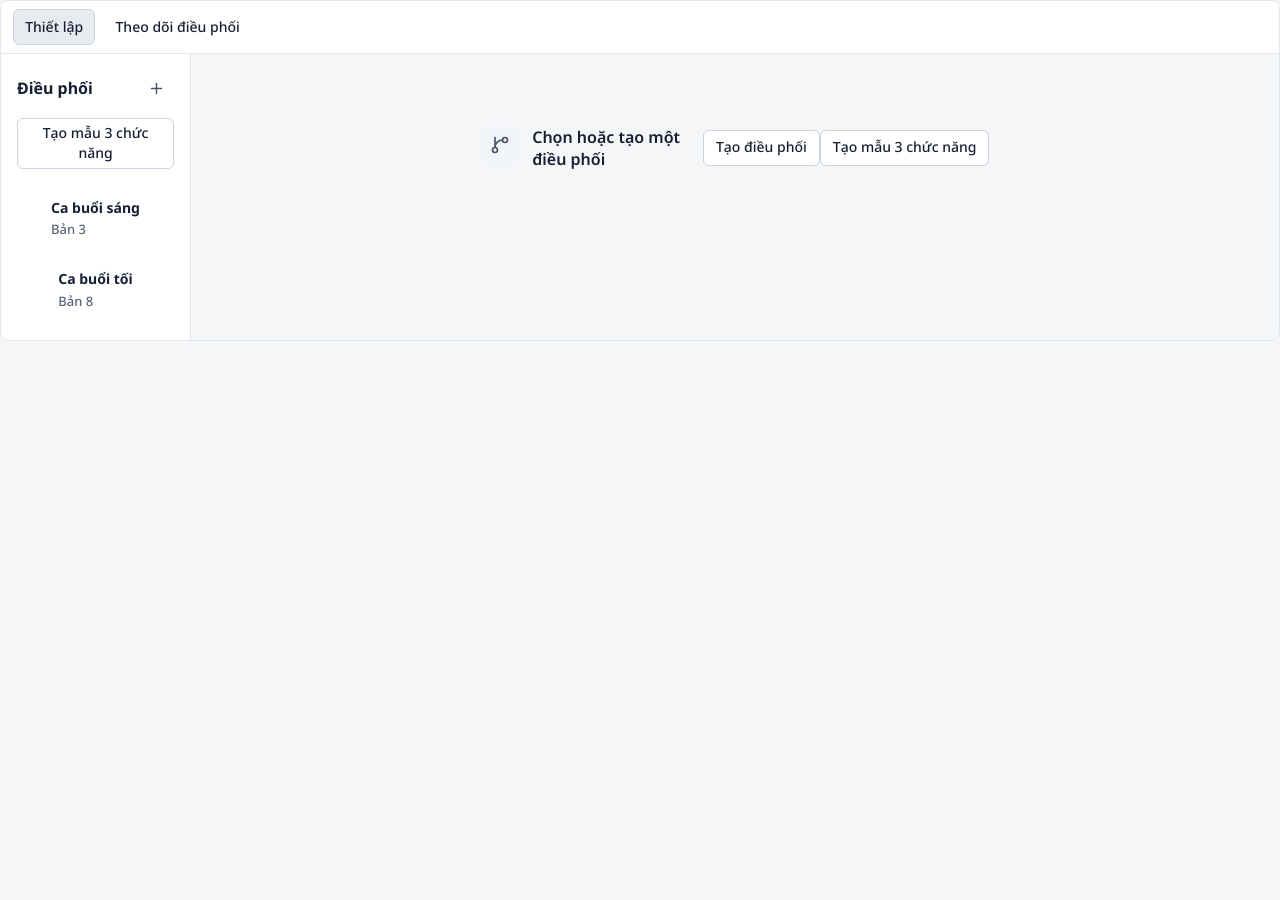
Scenario: OrchestrationWorkspace › keeps the newest document when an earlier open resolves last
The width and height of the screenshot is (1280, 900).
Click the button "Ca buổi sáng Bản 3".
click(96, 218)  # box [17, 185, 174, 252]
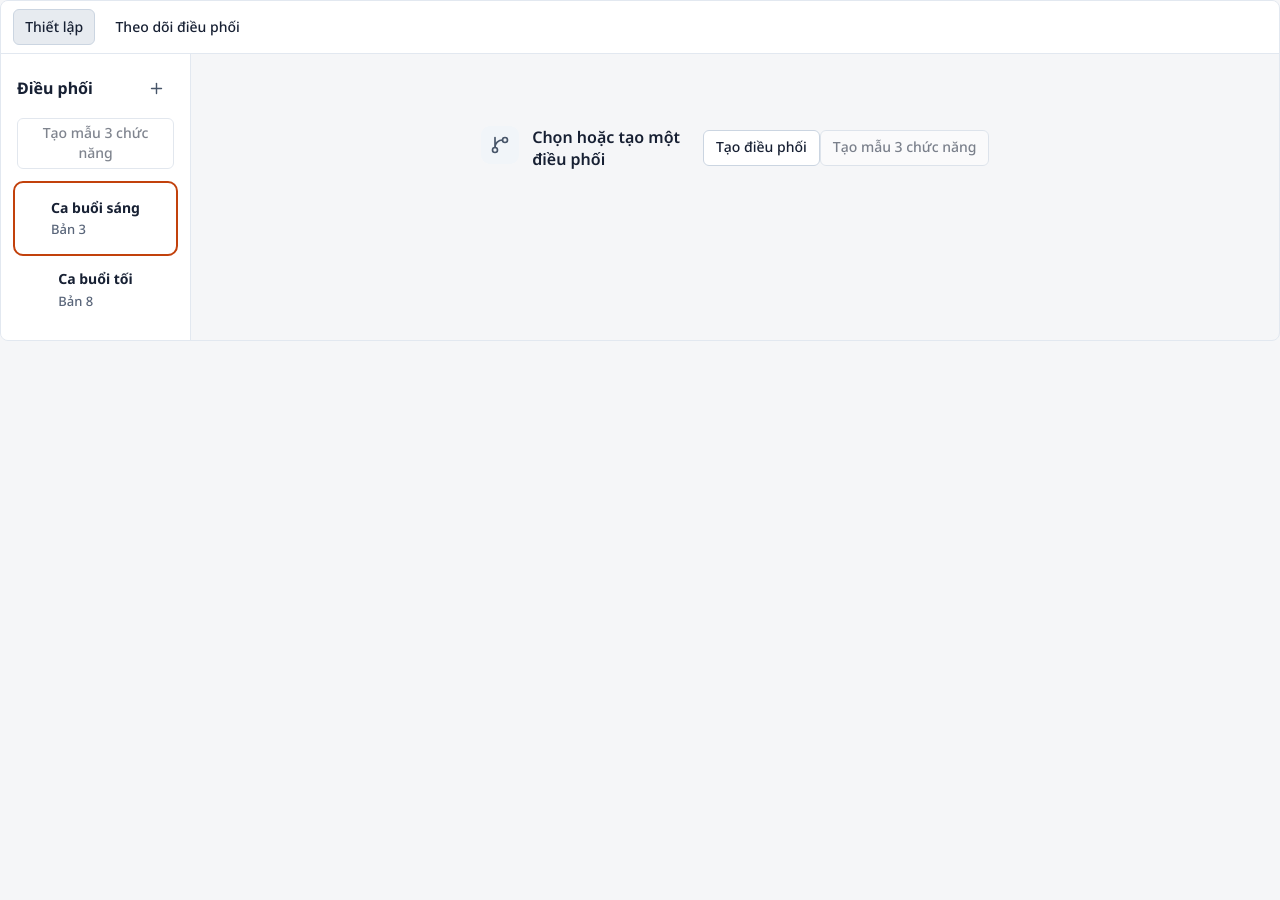
Click the button "Ca buổi tối Bản 8".
click(96, 290)  # box [17, 256, 174, 324]
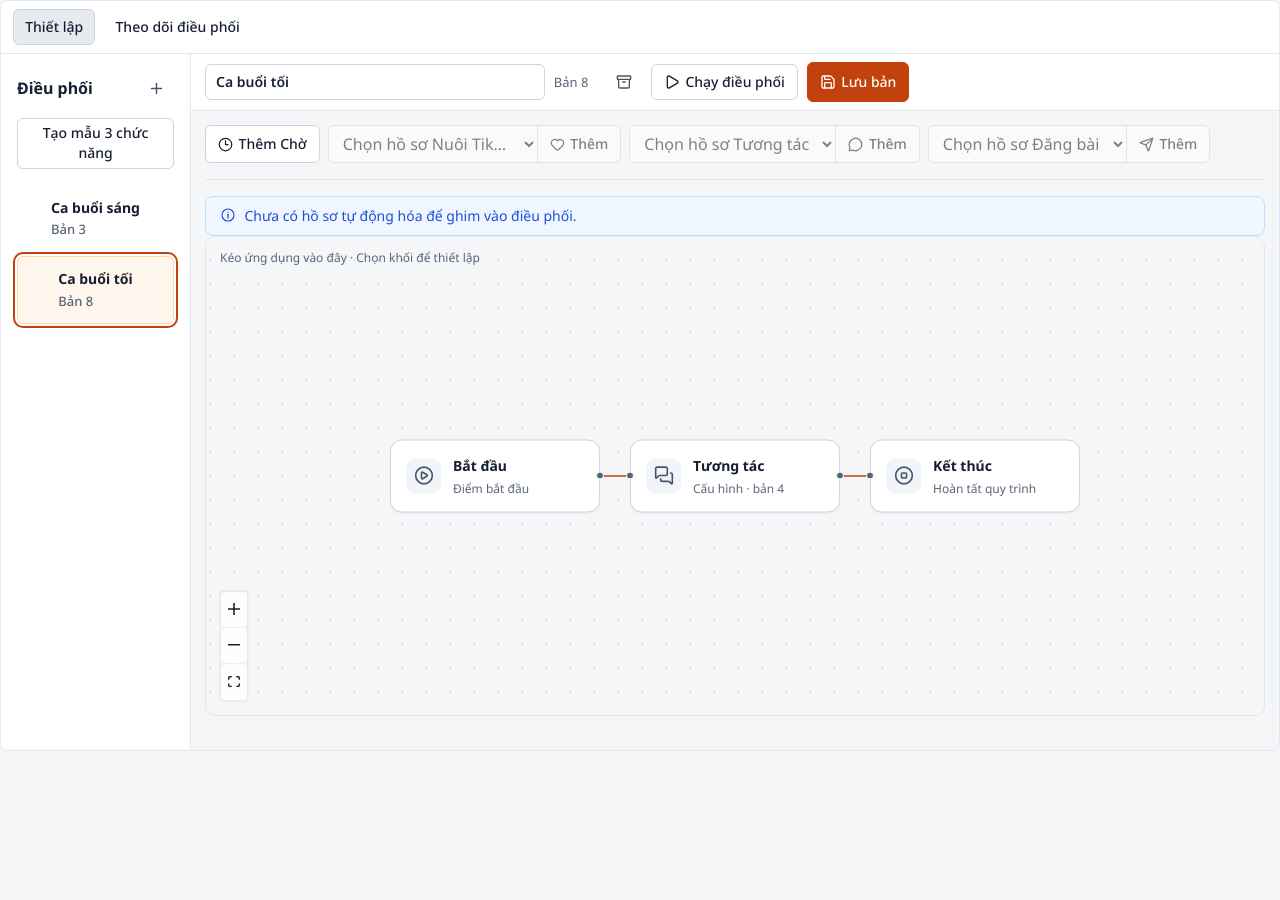
Expected: the field named "Tên điều phối" holds "Ca buổi tối", [205, 64, 545, 100]
